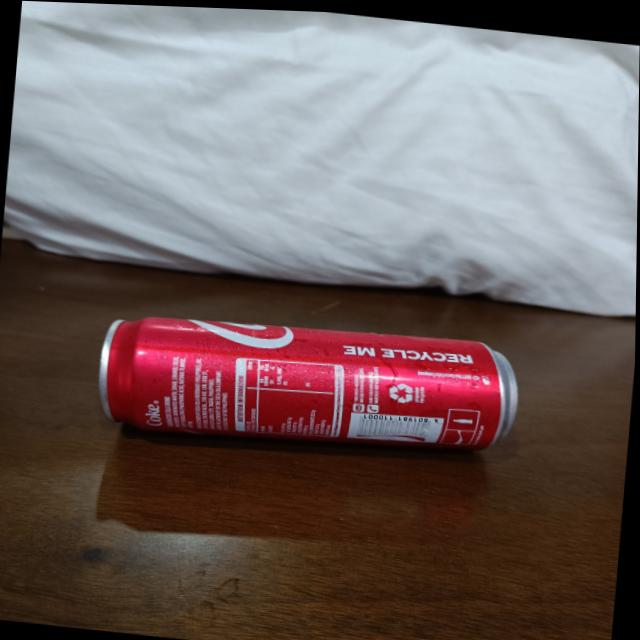coke: (100, 295, 522, 461)
